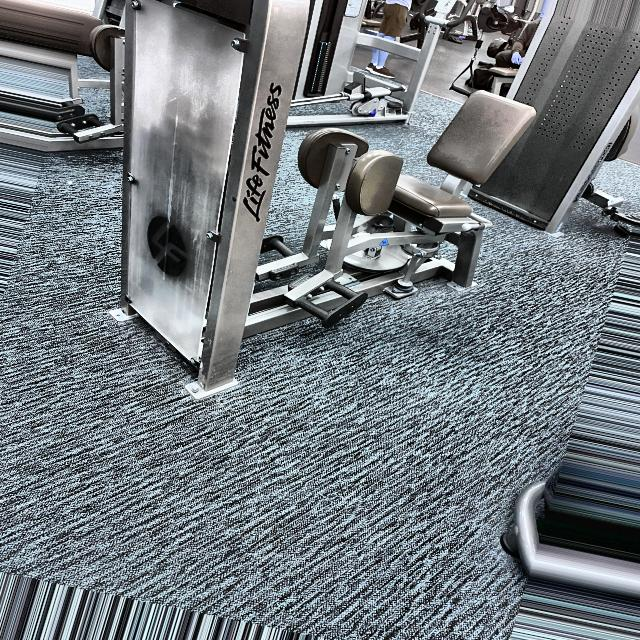hip_adduction_machine: (286, 36, 580, 334)
